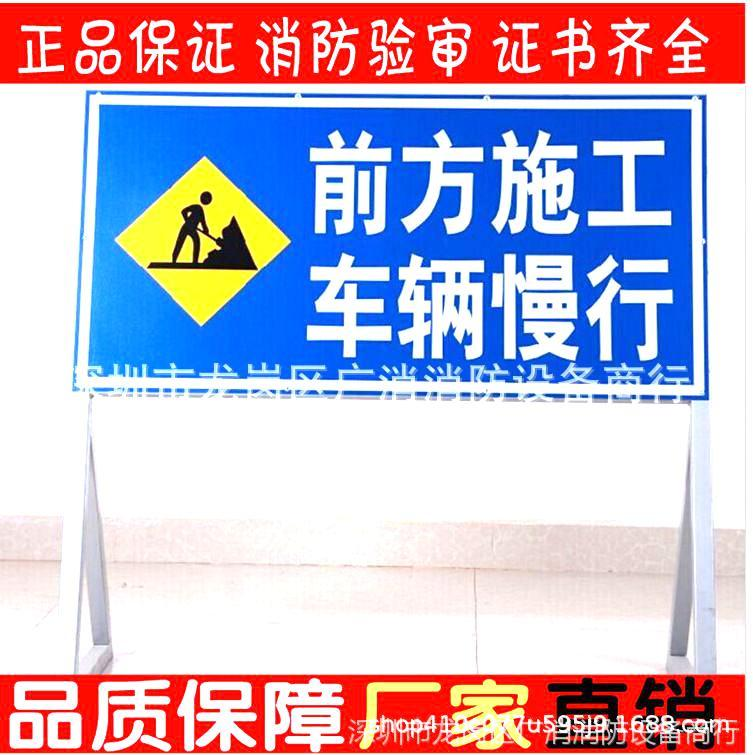sign: (64, 89, 707, 390)
